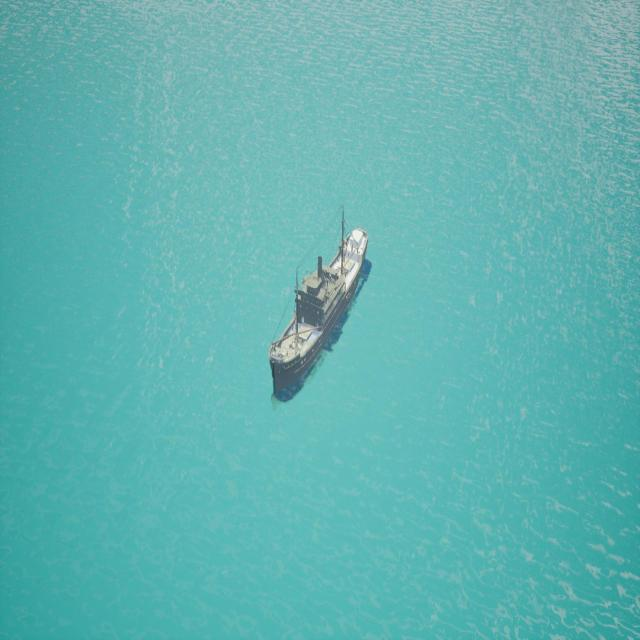fishing ship: (264, 199, 387, 421)
